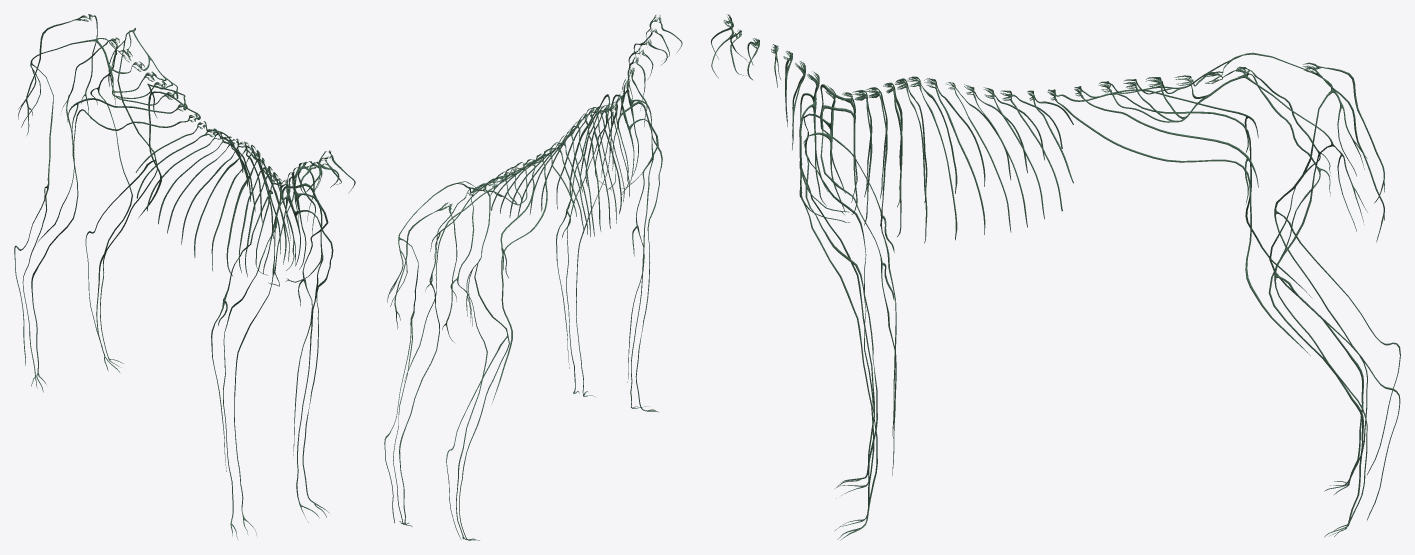
Rendered from Nerves.fbx.
The picture shows the model from 3 angles, left to right: view 1: azimuth 30°, elevation 25°; view 2: azimuth 150°, elevation 25°; view 3: azimuth 270°, elevation 25°; orthographic projection. The views are drawn at different scales.
Parts seen in each view (by area): view 1: Nerves; view 2: Nerves; view 3: Nerves.
Boxes of the visible parts, left/top/right/bottom form: Nerves: left=14, top=14, right=355, bottom=539; Nerves: left=384, top=15, right=682, bottom=540; Nerves: left=711, top=14, right=1400, bottom=540.
Bounding box in the file's own units: 8.03 × 28.03 × 35.04.
